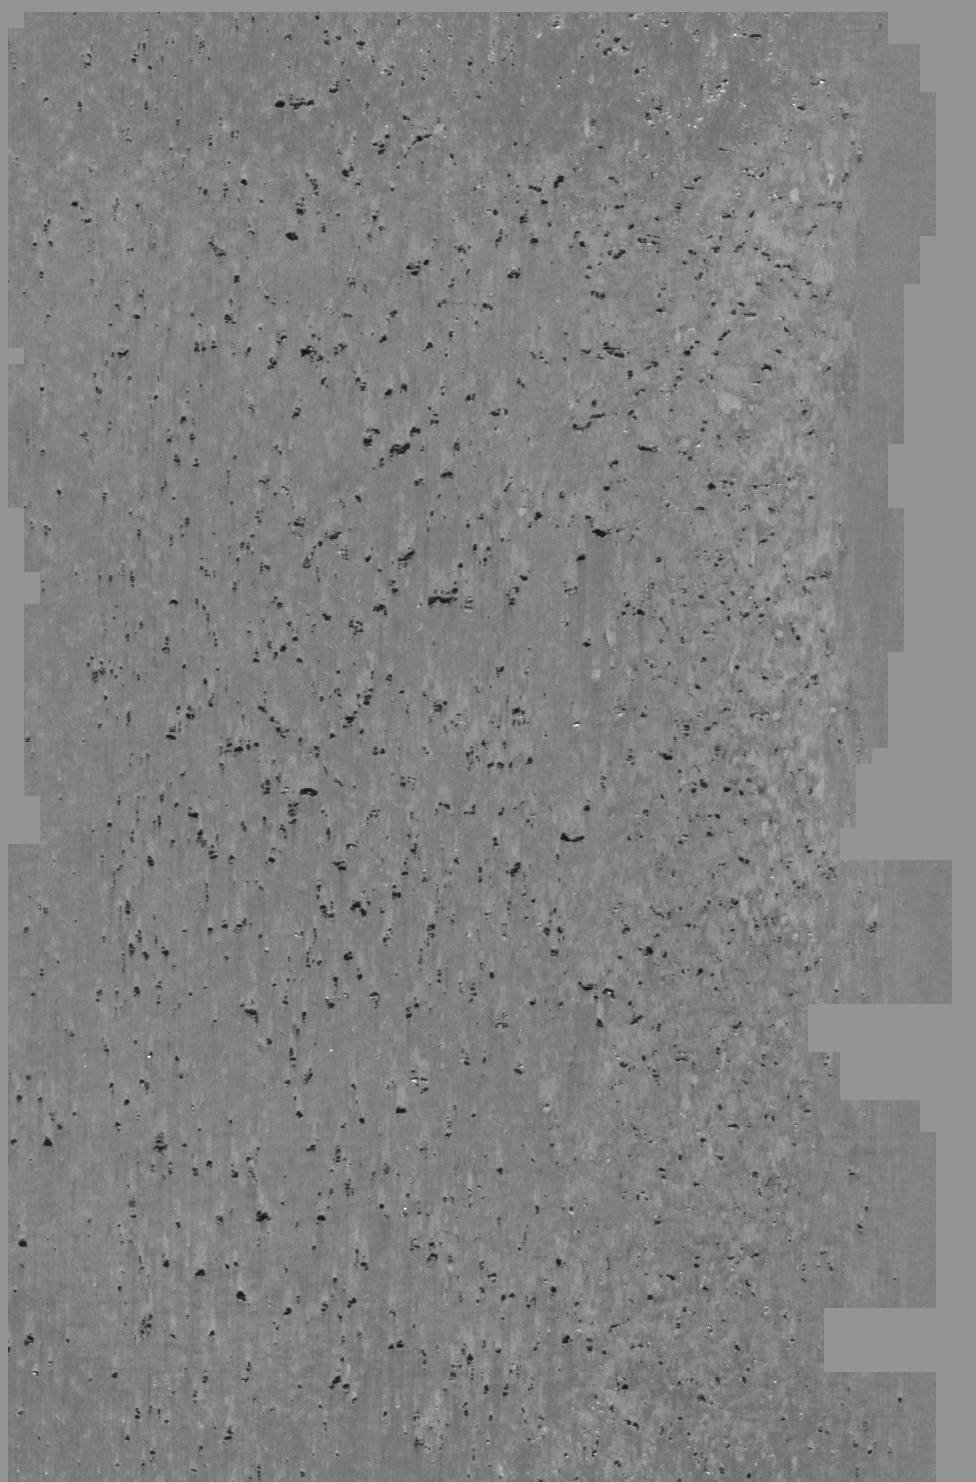oxl: (35, 10, 941, 1472)
